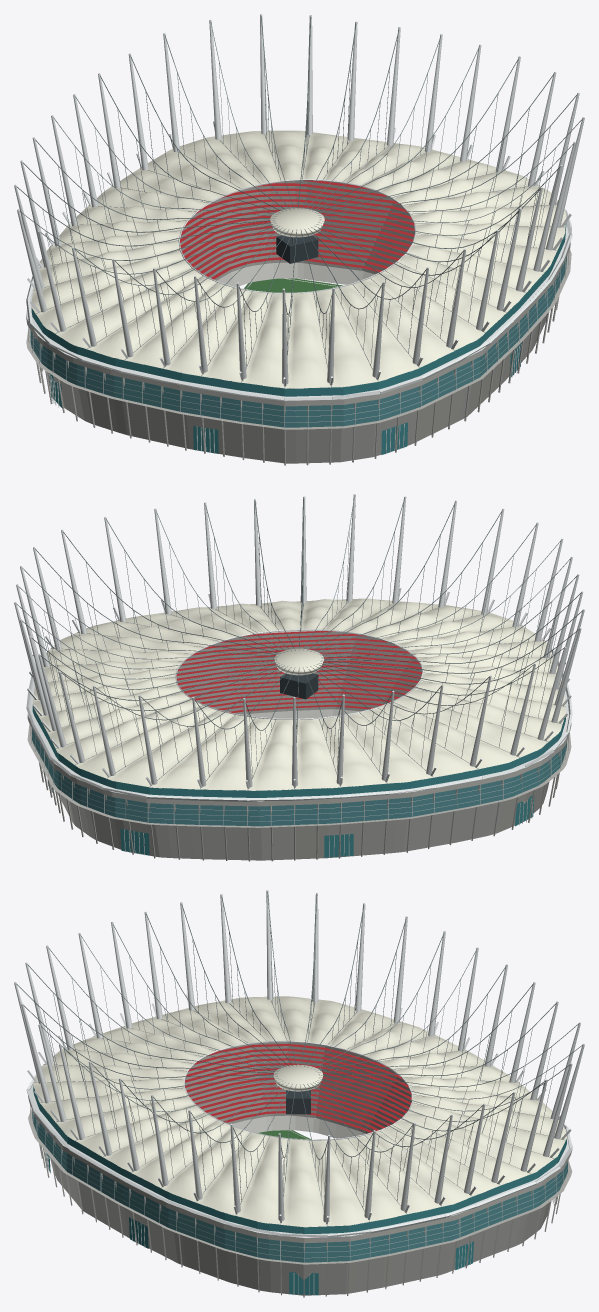
Rendered from bc-place-near.glb.
The picture shows the model from 3 angles, top to bottom: view 1: azimuth 30°, elevation 25°; view 2: azimuth 150°, elevation 25°; view 3: azimuth 270°, elevation 25°; orthographic projection. The views are drawn at different scales.
Parts seen in each view (by area): view 1: bc-place-0-roof, bc-place-0-concrete, bc-place-0-steel, bc-place-0-cable, bc-place-0-glow, bc-place-0-seats, bc-place-0-glass, bc-place-0-field, bc-place-0-shadow; view 2: bc-place-0-roof, bc-place-0-concrete, bc-place-0-steel, bc-place-0-cable, bc-place-0-glow, bc-place-0-seats, bc-place-0-glass, bc-place-0-shadow; view 3: bc-place-0-roof, bc-place-0-concrete, bc-place-0-steel, bc-place-0-cable, bc-place-0-glow, bc-place-0-seats, bc-place-0-glass, bc-place-0-shadow.
Boxes of the visible parts, x1,y1,x2,y2 form: bc-place-0-roof: [31, 130, 566, 388]; bc-place-0-concrete: [26, 181, 571, 465]; bc-place-0-steel: [14, 14, 584, 453]; bc-place-0-cable: [16, 16, 582, 387]; bc-place-0-glow: [30, 255, 567, 427]; bc-place-0-seats: [180, 180, 414, 279]; bc-place-0-glass: [31, 223, 566, 454]; bc-place-0-field: [244, 278, 342, 293]; bc-place-0-shadow: [276, 235, 318, 263]; bc-place-0-roof: [32, 598, 565, 790]; bc-place-0-concrete: [27, 630, 571, 861]; bc-place-0-steel: [14, 494, 584, 857]; bc-place-0-cable: [16, 496, 582, 789]; bc-place-0-glow: [32, 728, 566, 826]; bc-place-0-seats: [176, 631, 422, 712]; bc-place-0-glass: [32, 706, 565, 857]; bc-place-0-shadow: [280, 673, 318, 699]; bc-place-0-roof: [33, 996, 567, 1227]; bc-place-0-concrete: [28, 1042, 572, 1297]; bc-place-0-steel: [14, 890, 584, 1295]; bc-place-0-cable: [16, 892, 582, 1225]; bc-place-0-glow: [32, 1111, 567, 1262]; bc-place-0-seats: [185, 1044, 411, 1132]; bc-place-0-glass: [33, 1086, 566, 1295]; bc-place-0-shadow: [286, 1090, 310, 1114].
Size of the model in its own units: 233 by 77.61 by 229.
